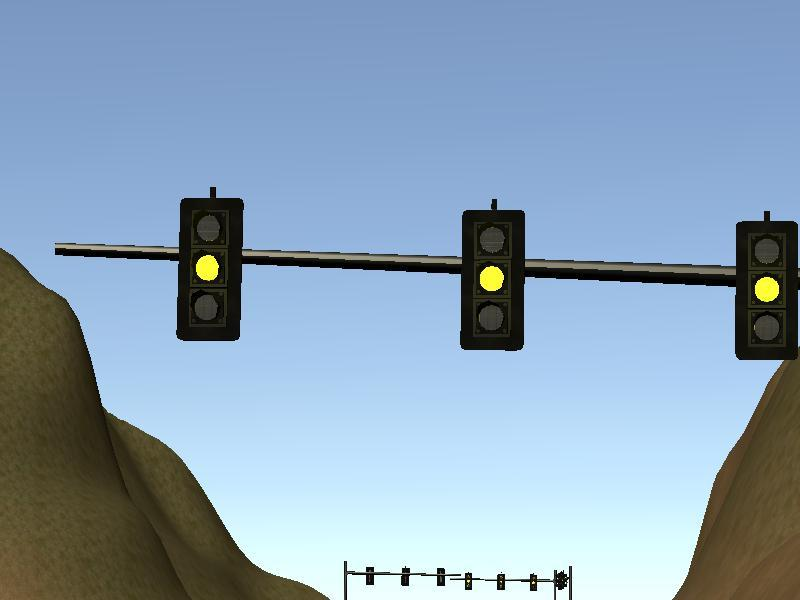Yellow: (461, 211, 524, 349), (736, 222, 797, 358), (181, 199, 238, 339)
